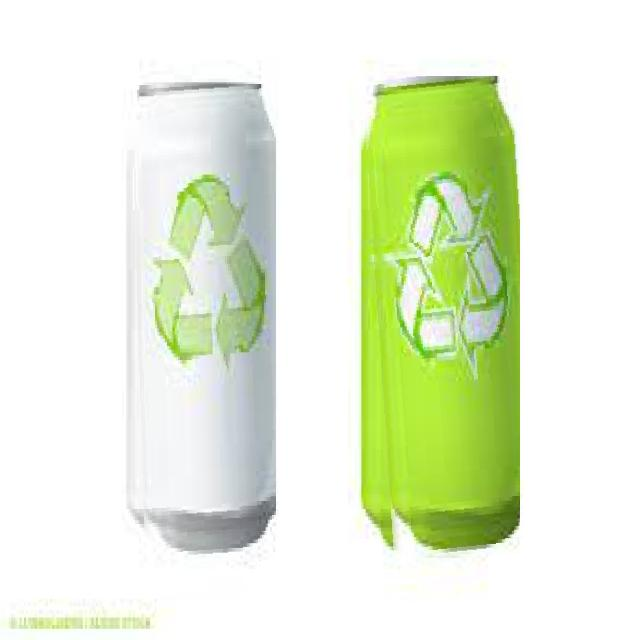Cans: (362, 76, 520, 566), (131, 84, 276, 568)
